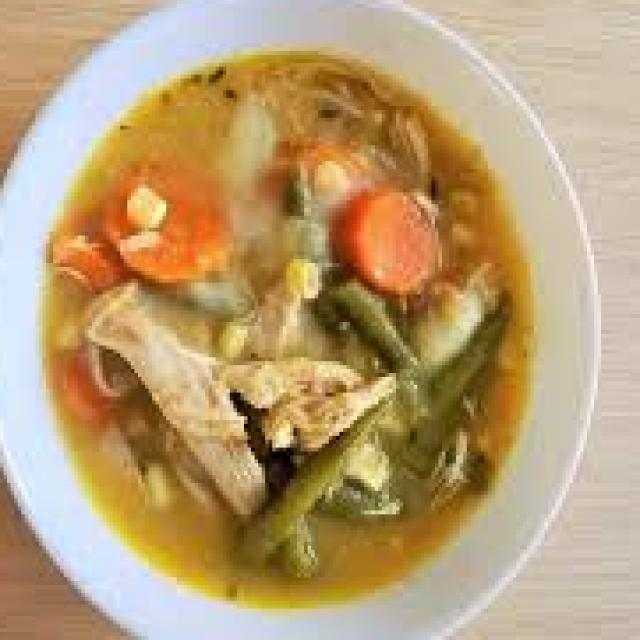inorganic: (58, 88, 510, 556)
organic: (9, 4, 615, 620)
